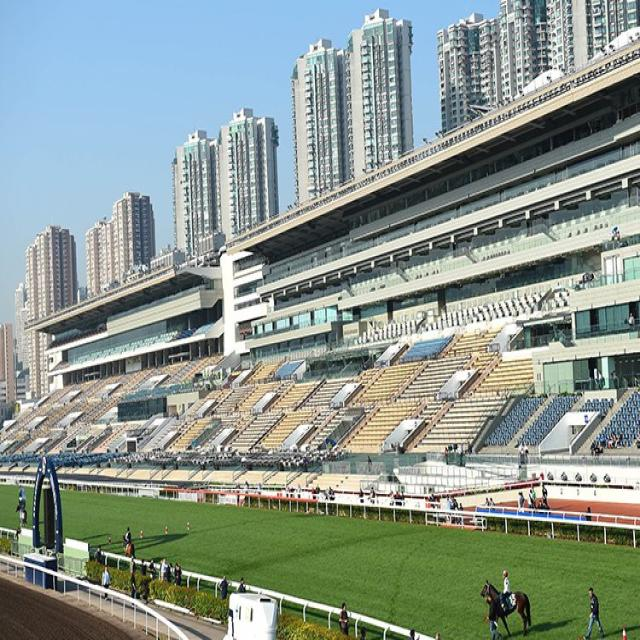body: (545, 270, 593, 316), (582, 586, 606, 640), (288, 448, 334, 468), (484, 590, 502, 639), (440, 442, 464, 464), (338, 602, 351, 638), (500, 568, 510, 610), (101, 563, 111, 602), (17, 494, 27, 527), (386, 488, 404, 506), (147, 556, 157, 588), (164, 561, 173, 594), (93, 543, 102, 576), (218, 574, 228, 602), (130, 568, 137, 608), (16, 482, 26, 510), (424, 493, 441, 509), (127, 450, 153, 460), (540, 496, 550, 520), (516, 489, 524, 518), (159, 556, 166, 588), (139, 556, 147, 584), (529, 484, 537, 512), (590, 435, 600, 457), (540, 484, 549, 508), (129, 554, 136, 584), (518, 488, 525, 516), (174, 562, 182, 586), (123, 525, 131, 549), (322, 485, 334, 501), (610, 224, 620, 243), (242, 478, 250, 501), (627, 311, 635, 334), (358, 485, 365, 511), (395, 439, 402, 465), (610, 368, 620, 386), (614, 430, 623, 449), (365, 454, 373, 475), (517, 439, 524, 463), (14, 525, 21, 548), (522, 441, 529, 464), (368, 486, 376, 506), (527, 489, 535, 509), (296, 481, 303, 502), (313, 481, 320, 502), (239, 576, 247, 594), (535, 499, 544, 515), (407, 627, 419, 639), (607, 430, 615, 448), (233, 480, 240, 500), (488, 497, 495, 517), (596, 368, 602, 391), (449, 494, 457, 511), (600, 432, 607, 451), (484, 495, 490, 517), (458, 500, 464, 522), (216, 450, 229, 460), (173, 409, 181, 424), (466, 440, 473, 457), (256, 480, 262, 499), (310, 484, 316, 503), (289, 484, 296, 500), (635, 431, 639, 457), (358, 628, 368, 638), (284, 483, 290, 499), (586, 506, 592, 522), (538, 480, 543, 498), (445, 494, 449, 510)
